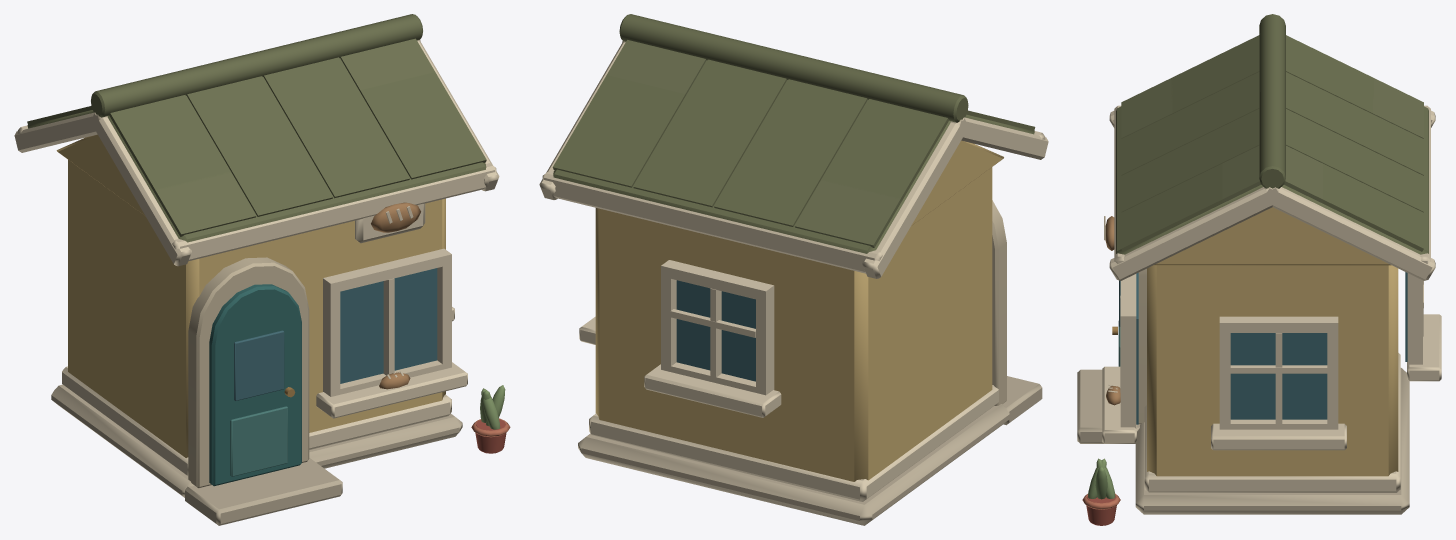
The model's file is bakery_level_1.glb.
The picture shows the model from 3 angles, left to right: view 1: azimuth 30°, elevation 25°; view 2: azimuth 150°, elevation 25°; view 3: azimuth 270°, elevation 25°; orthographic projection. The views are drawn at different scales.
Parts seen in each view (by area): view 1: bakery_level_1_runtime; view 2: bakery_level_1_runtime; view 3: bakery_level_1_runtime.
Boxes of the visible parts, bbox=[...] form: bakery_level_1_runtime: bbox=[14, 14, 510, 525]; bakery_level_1_runtime: bbox=[539, 14, 1048, 525]; bakery_level_1_runtime: bbox=[1077, 14, 1441, 525].
Size of the model in its own units: 2.91 by 3.11 by 2.84.
